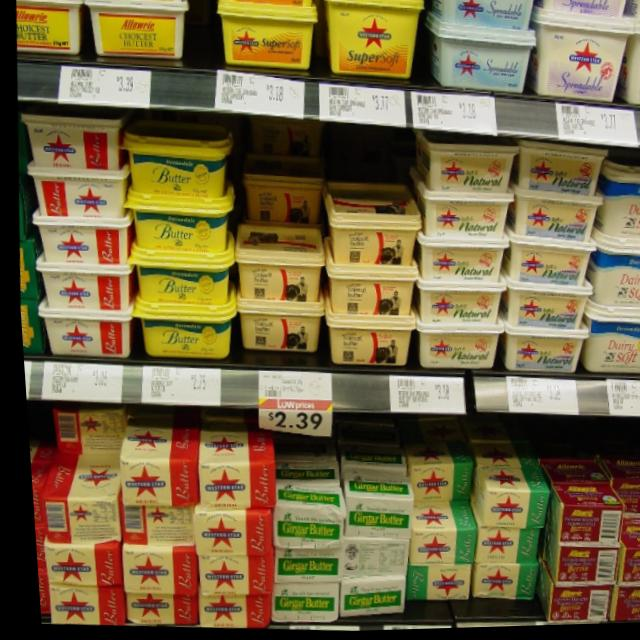q289: (532, 17, 626, 126)
